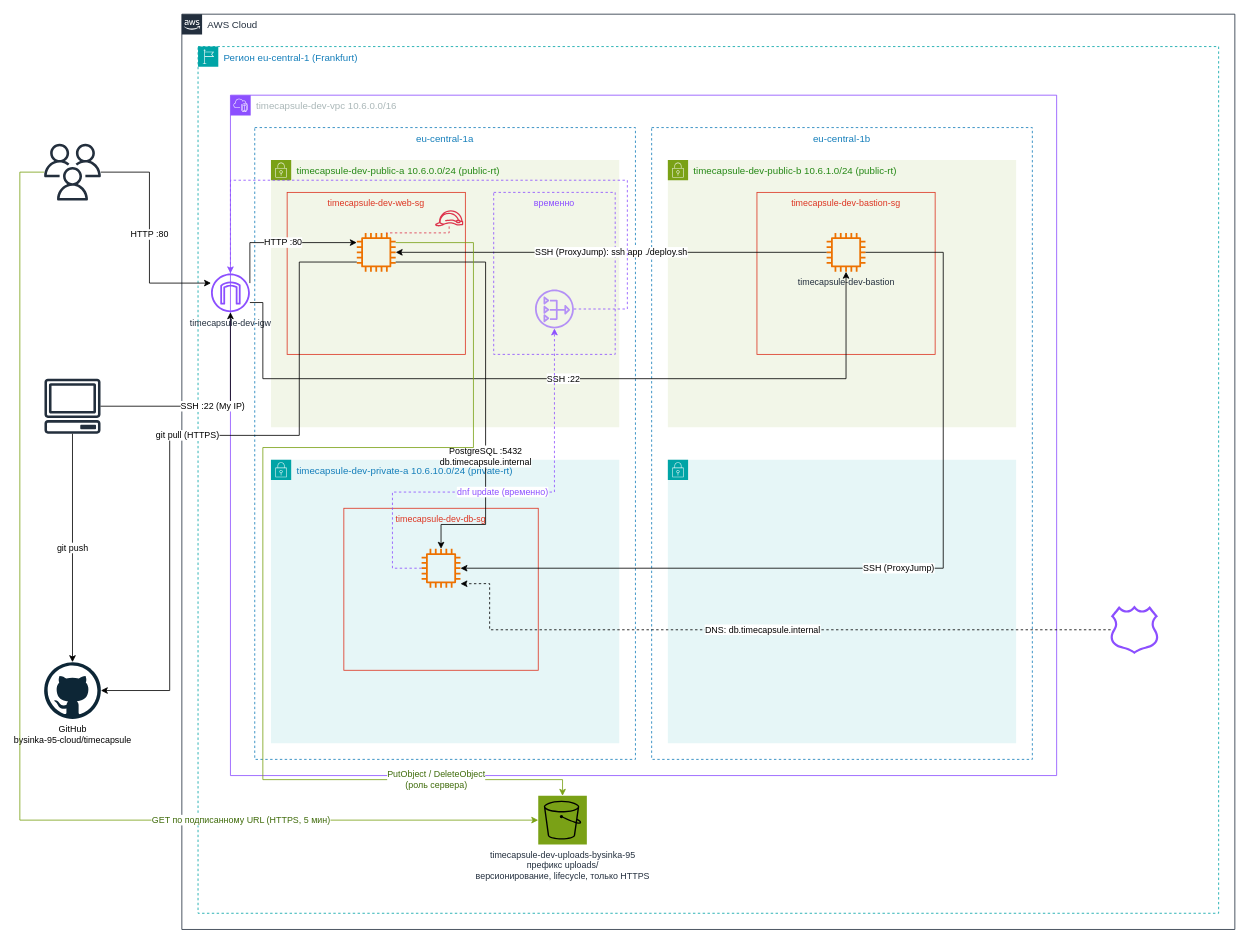
Some shapes in this 1249 by 944 pixel diagram are drawn without their labels. Each missing label, with the centre of its shape:
Private hosted zone timecapsule.internal A db → 10.6.10.149: [1134,629]
timecapsule-dev-app nginx + PHP-FPM EIP timecapsule-dev-app-eip: [375,251]
timecapsule-dev-app-role: [448,218]
timecapsule-dev-db PostgreSQL 16 10.6.10.149: [440,567]
timecapsule-dev-nat-a: [554,308]
timecapsule-dev-private-b 10.6.11.0/24 (private-rt): [841,601]
Компьютер разработчика: [72,405]
Пользователи: [72,171]
